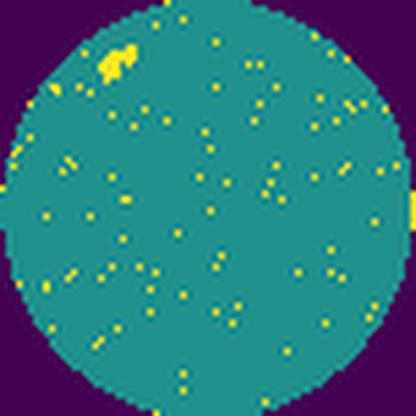Edge-Loc: (93, 42, 143, 83)
